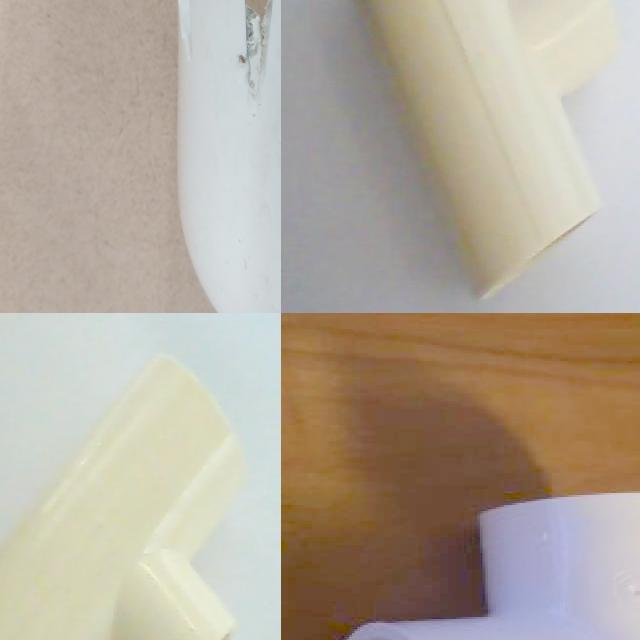Defective: (353, 0, 621, 303), (87, 272, 160, 311)
L Joint: (344, 492, 640, 640)
T Joint: (0, 353, 248, 640)
